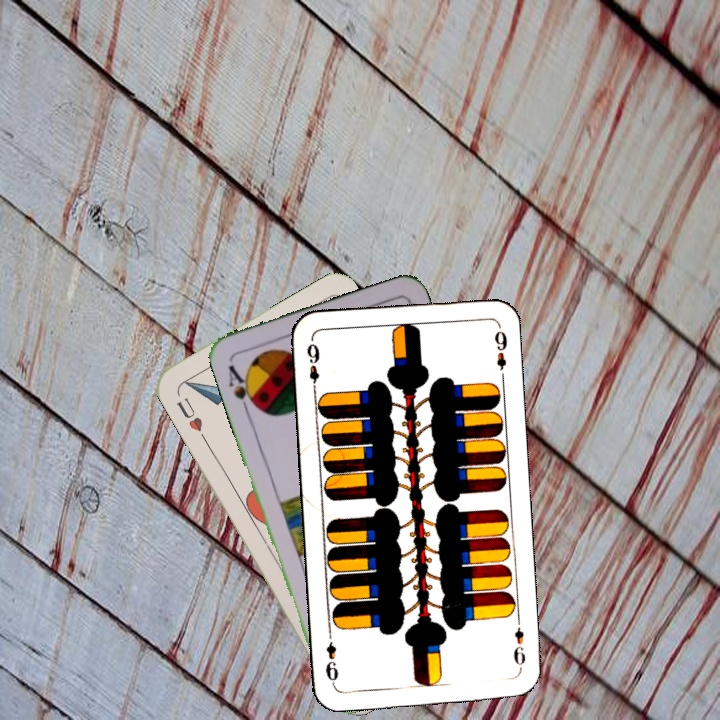E9: (302, 336, 323, 395), (509, 614, 528, 673)
HU: (172, 393, 206, 435)
SA: (224, 361, 261, 415)
